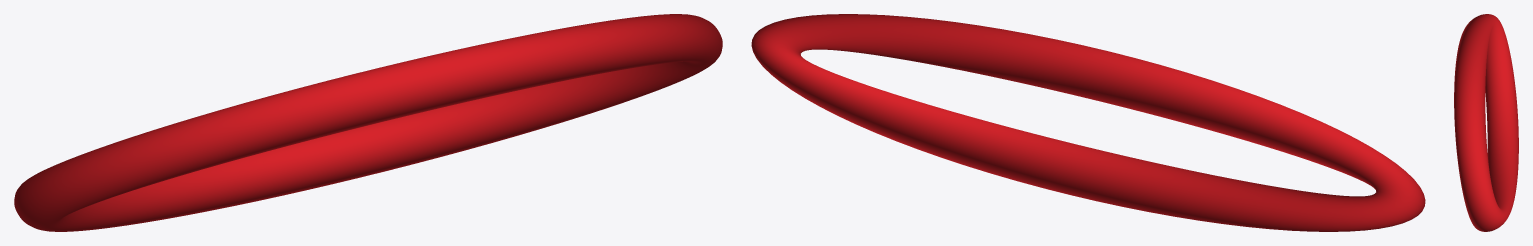
Rendered from zcollar-red-3d.glb.
3 views of the same model, side by side, from view 1: azimuth 30°, elevation 25°; view 2: azimuth 150°, elevation 25°; view 3: azimuth 270°, elevation 25° (orthographic). The views are drawn at different scales.
Parts seen in each view (by area): view 1: mesh_id38; view 2: mesh_id38; view 3: mesh_id38.
Part boxes in pixels (x1,y1,x2,y2): mesh_id38: (14, 14, 722, 231); mesh_id38: (751, 14, 1425, 231); mesh_id38: (1454, 14, 1518, 231).
Size of the model in its own units: 0.3199 by 0.0551 by 0.0436.
1 material, 1 textured.
